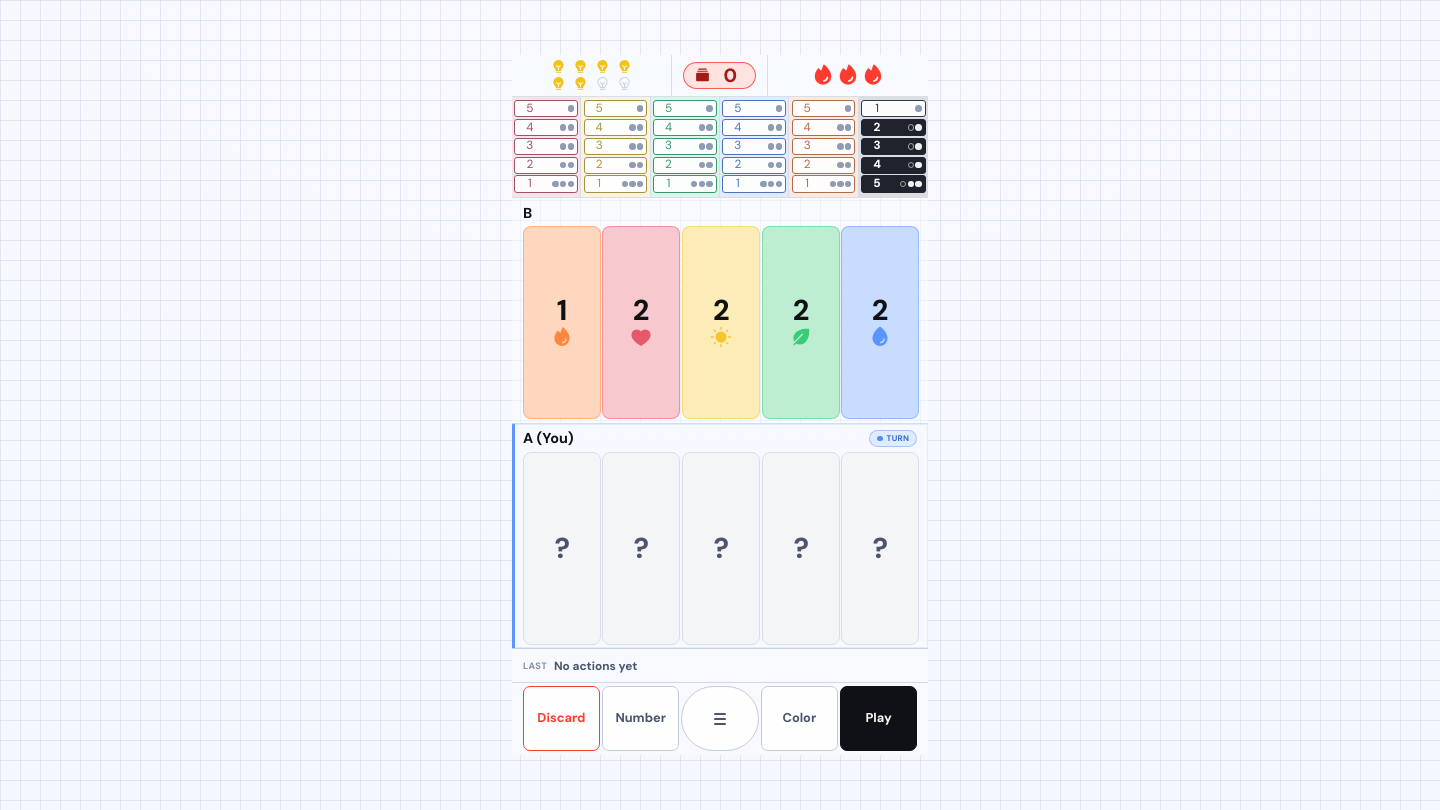
App local debug wiring › black powder completion can keep the normal hint option
What coordinates should you click on to do the following:
click the button with test id "actions-play"
I would click on:
 (879, 719)
Its box is [840, 686, 917, 751].
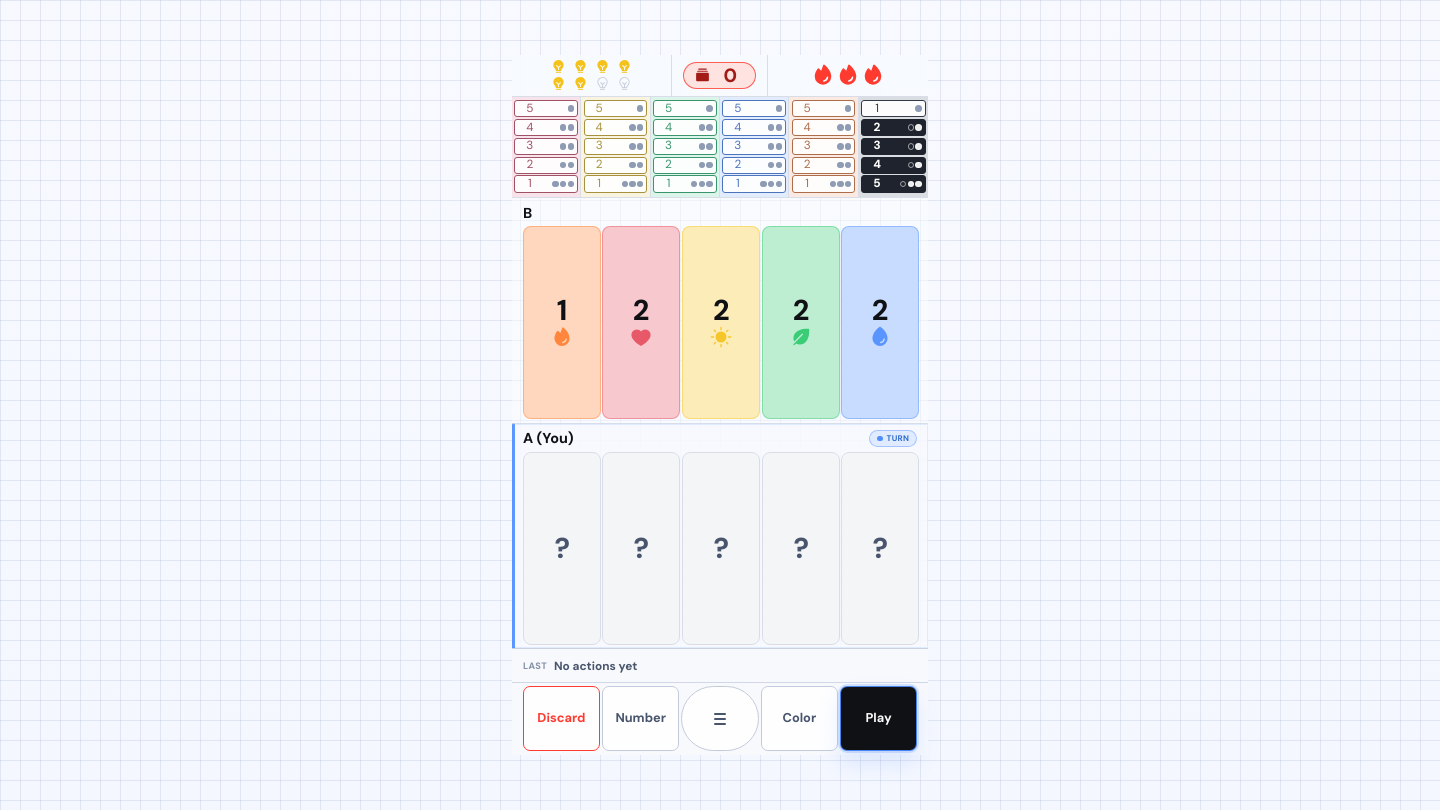
What coordinates should you click on to do the following:
click the button with test id "card-p1-0"
I would click on:
 (562, 548)
Its box is [523, 452, 601, 644].
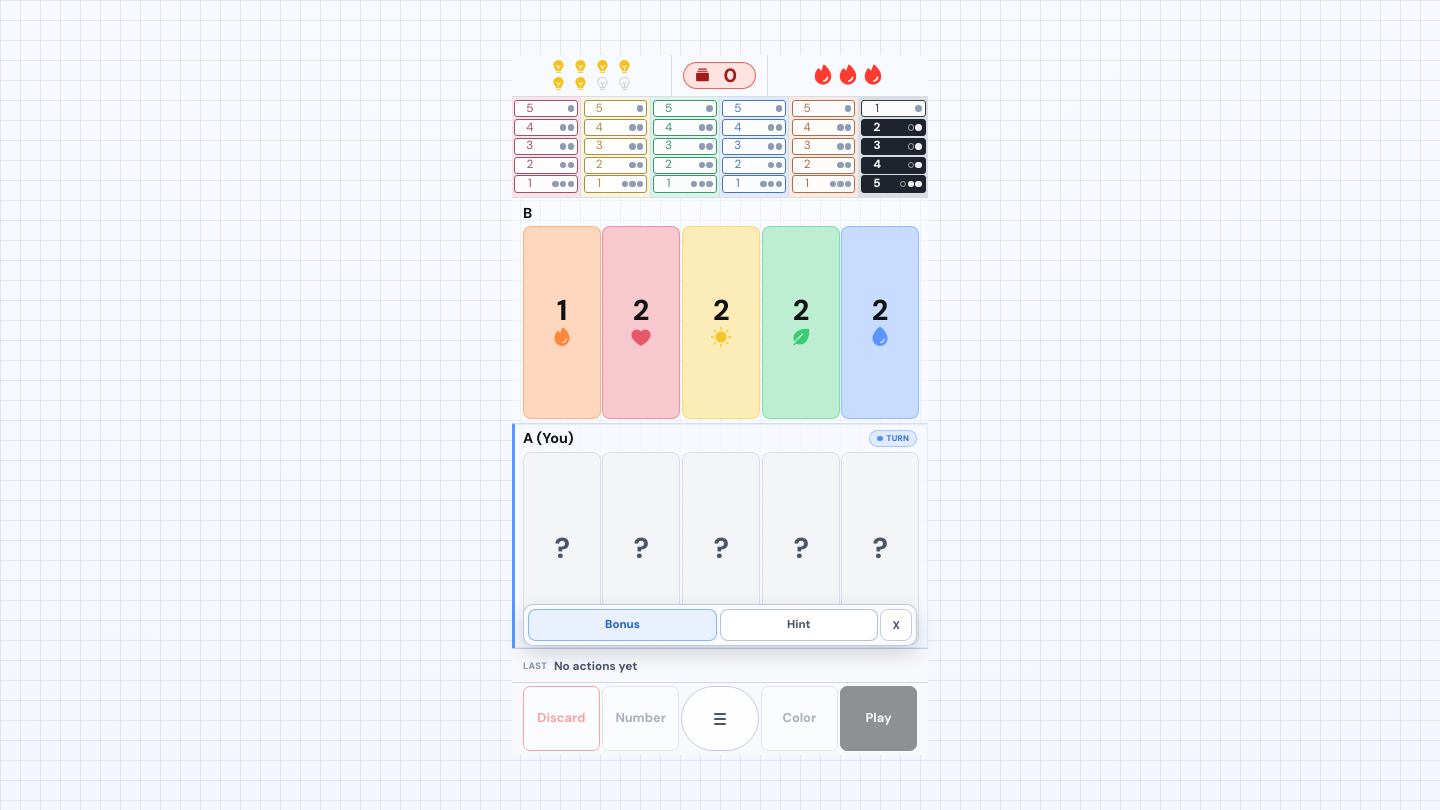
What coordinates should you click on to do the following:
click the button with test id "completion-bonus-hint"
I would click on:
 (799, 625)
Its box is [720, 609, 878, 641].
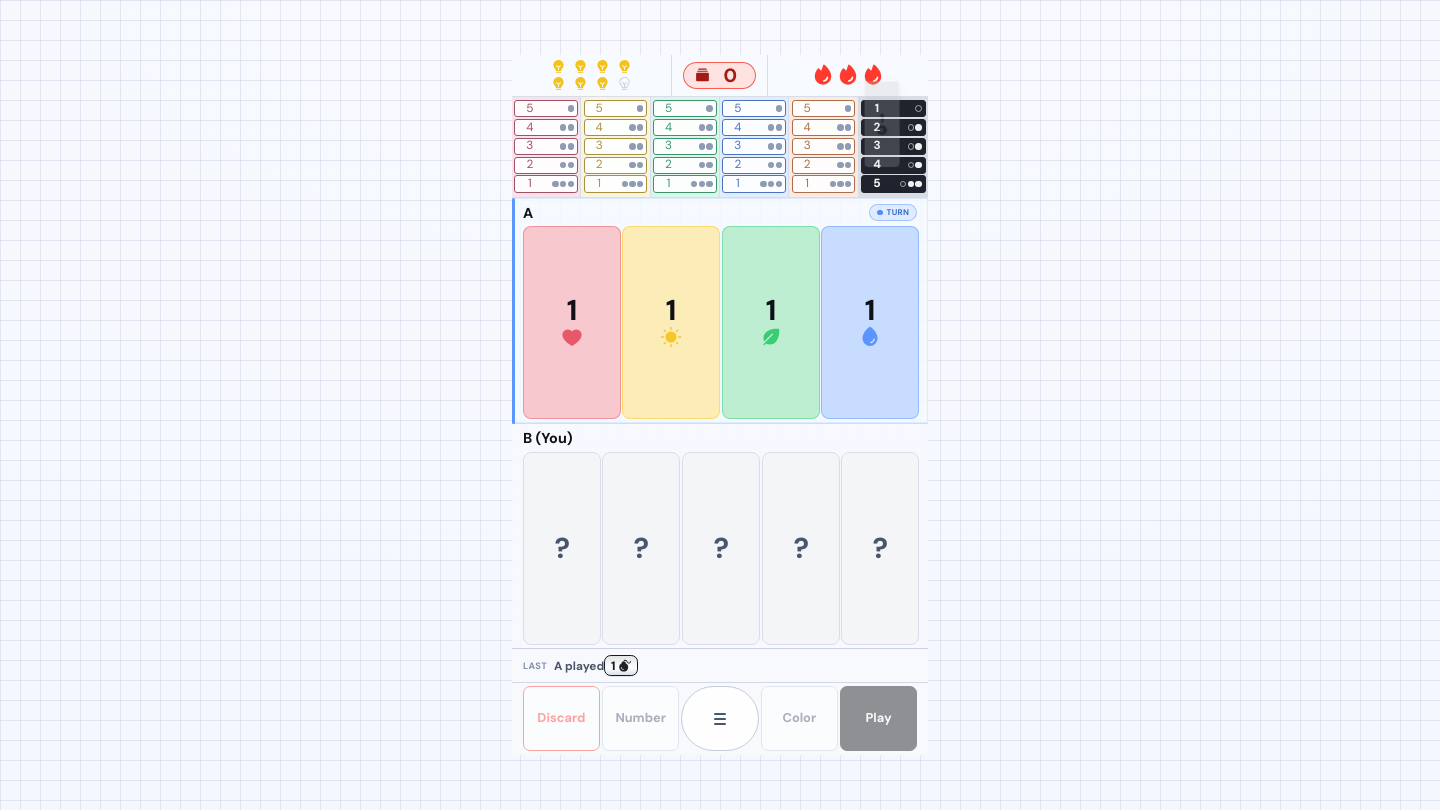
Check: the element with test id "completion-bonus-picker" is gone
